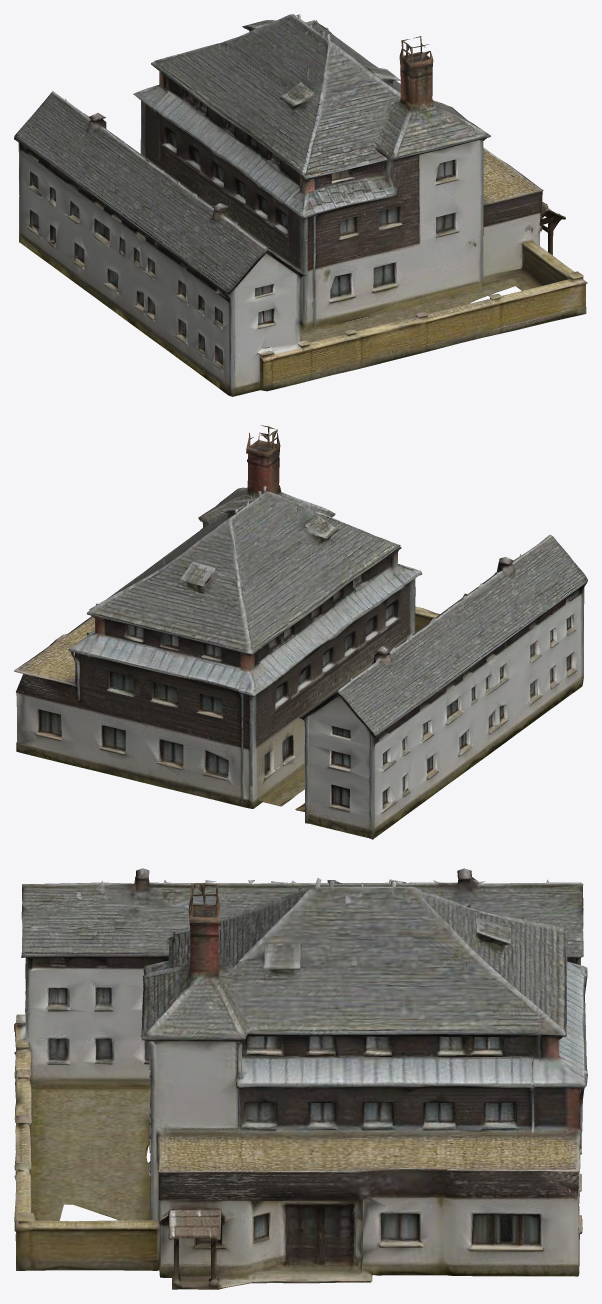
The model's file is hotel_hwb.glb.
The picture shows the model from 3 angles, top to bottom: view 1: azimuth 30°, elevation 25°; view 2: azimuth 150°, elevation 25°; view 3: azimuth 270°, elevation 25°; orthographic projection. The views are drawn at different scales.
Visible parts, largest first — view 1: tripo_node_a18d12cc-909b-45ca-8657-3bd7783def87; view 2: tripo_node_a18d12cc-909b-45ca-8657-3bd7783def87; view 3: tripo_node_a18d12cc-909b-45ca-8657-3bd7783def87.
Part boxes in pixels (box(x1,y1,x2,y2)): tripo_node_a18d12cc-909b-45ca-8657-3bd7783def87: box(14, 14, 587, 396); tripo_node_a18d12cc-909b-45ca-8657-3bd7783def87: box(14, 425, 587, 839); tripo_node_a18d12cc-909b-45ca-8657-3bd7783def87: box(14, 868, 587, 1289).
Bounding box in the file's own units: 1 × 0.5907 × 0.9609.
1 material, 1 textured.
